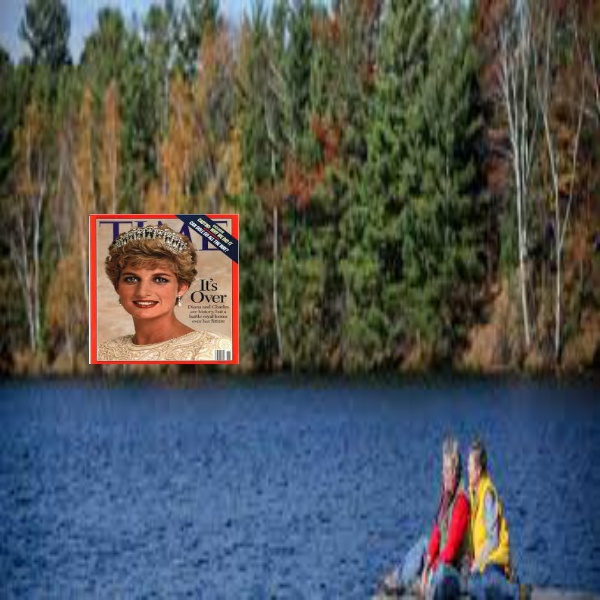time_cover: (86, 200, 241, 372)
